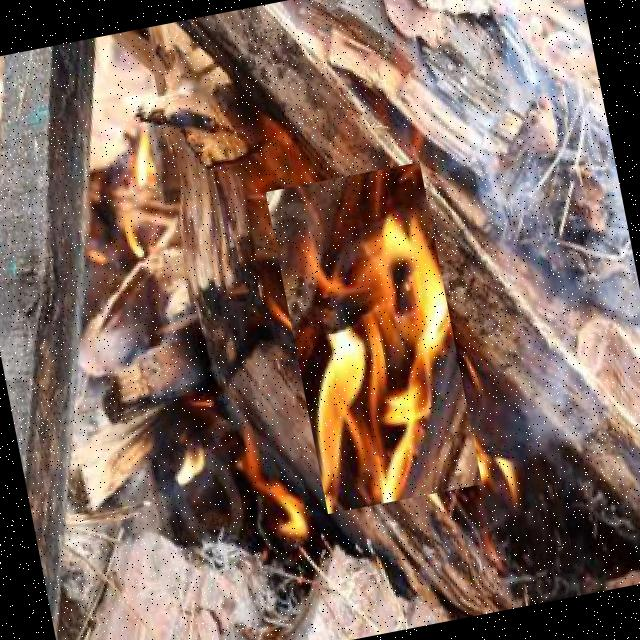fire: (266, 162, 482, 514), (235, 415, 318, 552), (169, 428, 214, 493)
